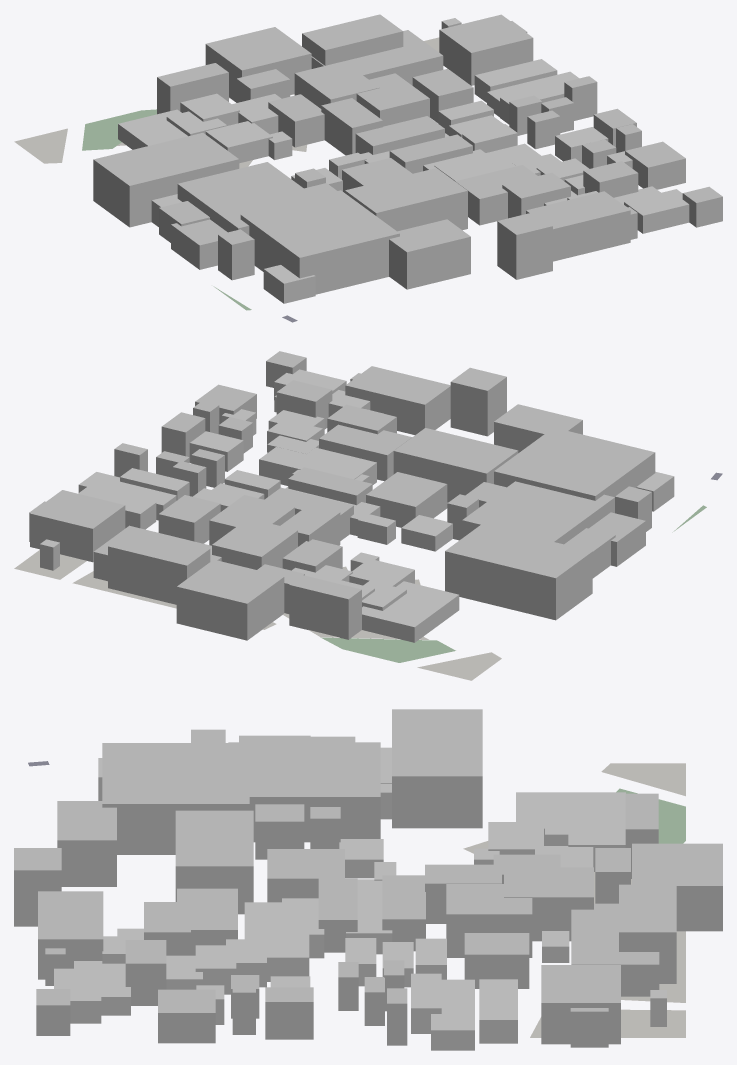
Rendered from 107_98_mid.glb.
The picture shows the model from 3 angles, top to bottom: view 1: azimuth 30°, elevation 25°; view 2: azimuth 150°, elevation 25°; view 3: azimuth 270°, elevation 25°; orthographic projection. The views are drawn at different scales.
Bounding box in the file's own units: 525 × 48.99 × 544.
